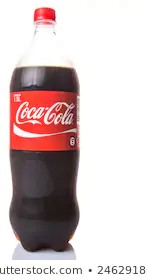coke-bottle-2l: (10, 1, 79, 255)
